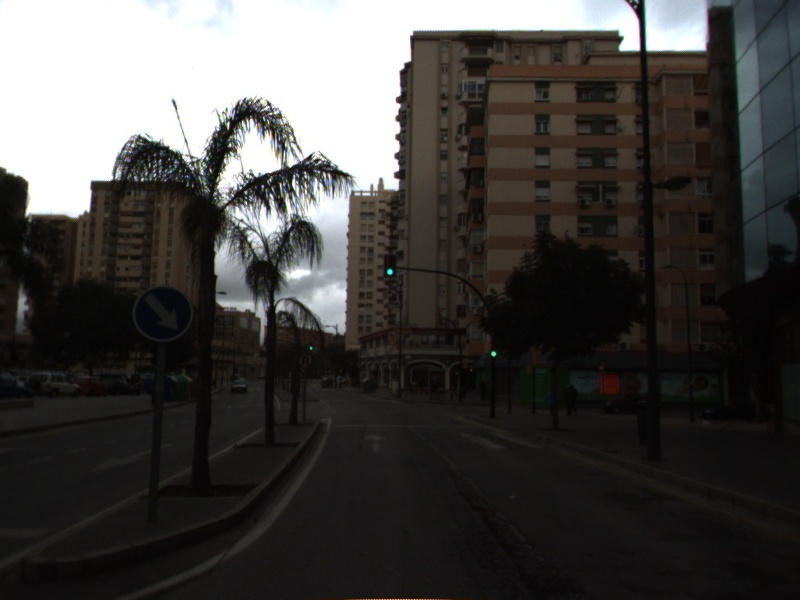STRAIGHT: (361, 431, 390, 455)
